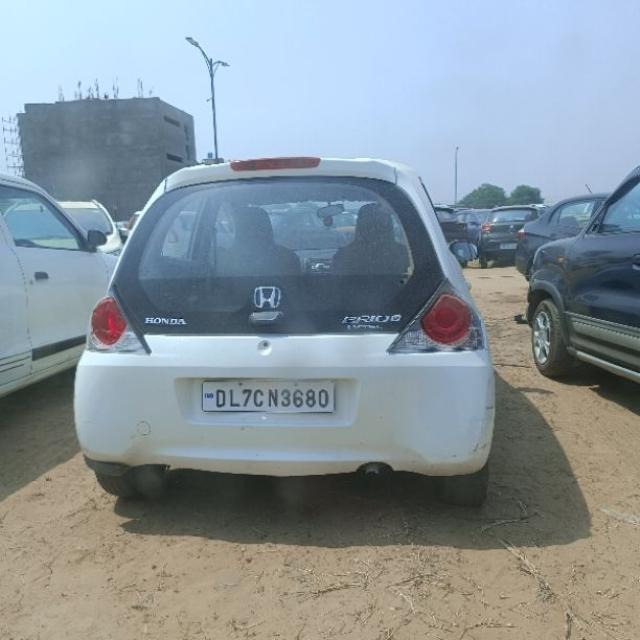license_plate: (198, 378, 336, 413)
